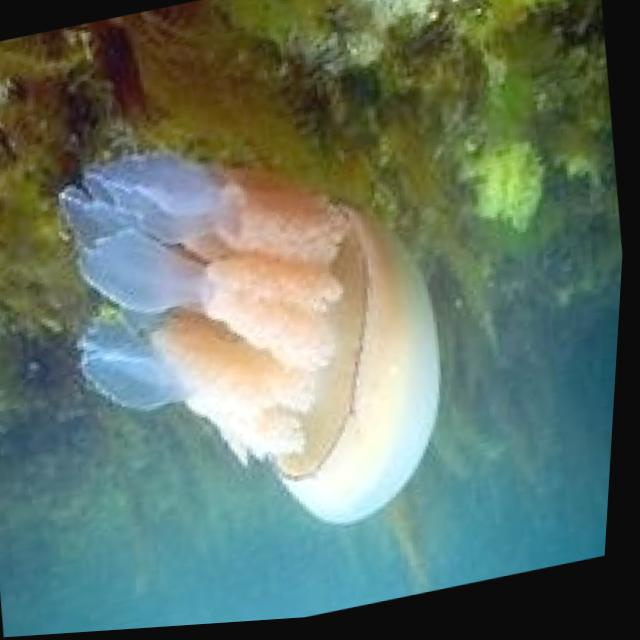Box-jellyfish: (39, 92, 484, 585)
